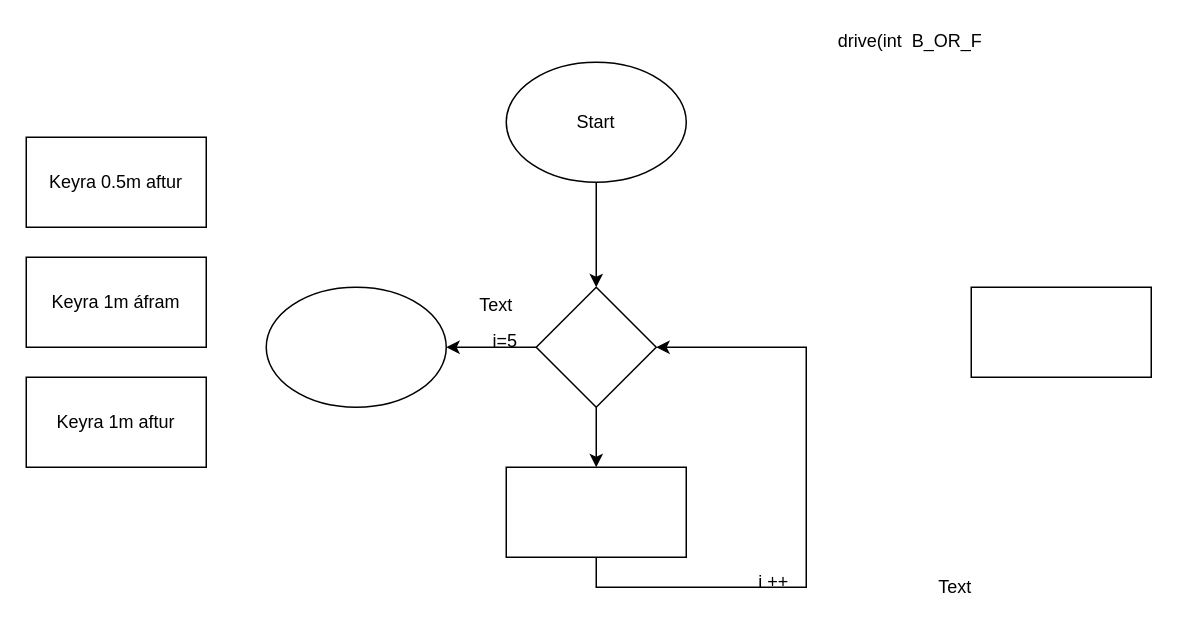
Some shapes in this 1178 by 627 pixel diagram are drawn without their labels. Each missing label, with the centre of its shape:
"Keyra 0.5 * i m áfram" goes at point 595,511.
"Stop" goes at point 355,346.
